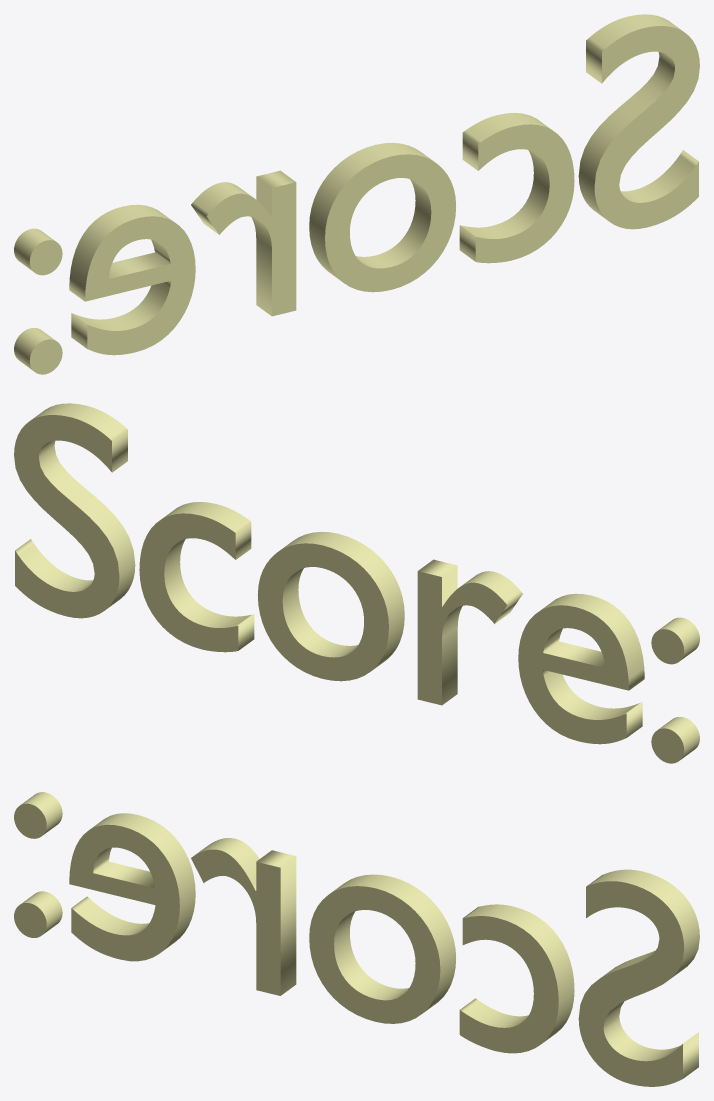
The model's file is score.glb.
3 views of the same model, one above another, from view 1: azimuth 30°, elevation 25°; view 2: azimuth 150°, elevation 25°; view 3: azimuth 330°, elevation 25° (orthographic).
Parts seen in each view (by area): view 1: テキスト; view 2: テキスト; view 3: テキスト.
Boxes of the visible parts, x1=… form: テキスト: x1=14, y1=14, x2=699, y2=374; テキスト: x1=14, y1=403, x2=699, y2=763; テキスト: x1=14, y1=792, x2=699, y2=1086.
Size of the model in its own units: 2.45 by 0.7 by 0.1.
